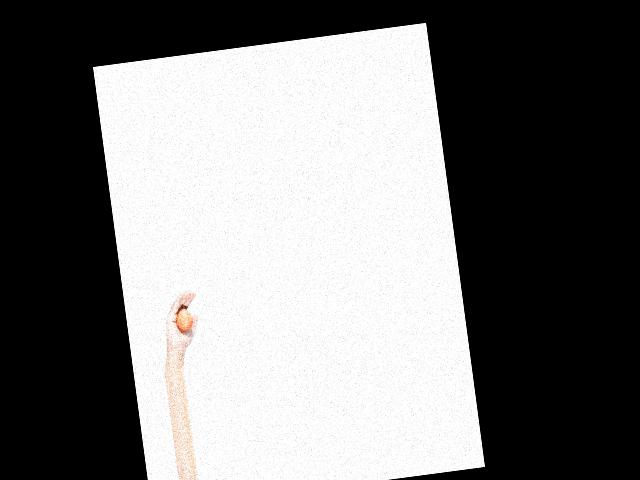egg: (175, 308, 193, 331)
